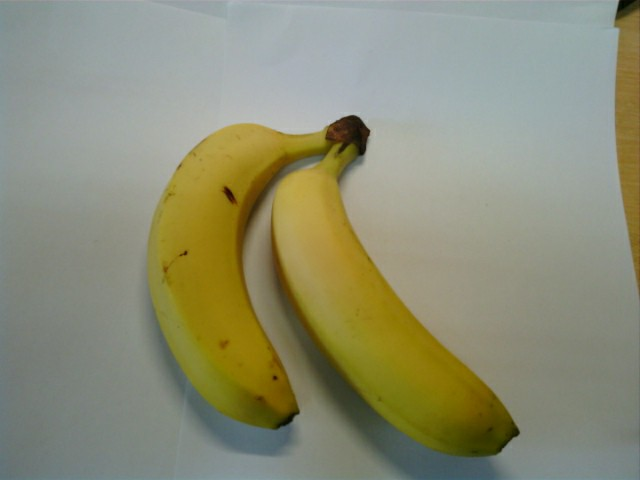fresh_banana: (272, 157, 520, 458)
normal_banana: (143, 121, 301, 431)
